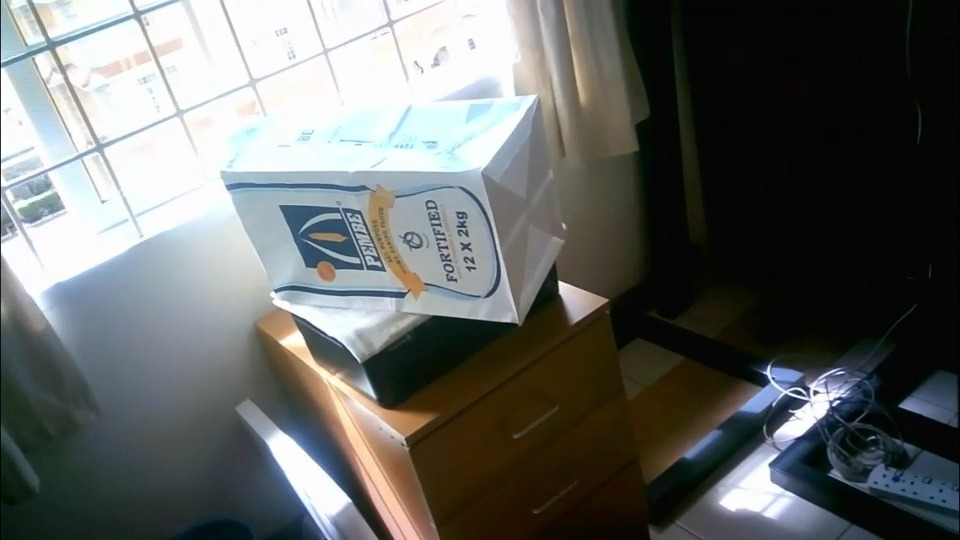wheat_flour_blue_label: (217, 95, 566, 323)
